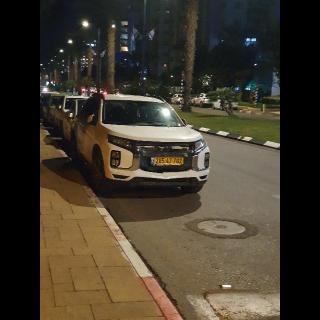LicensePlate: (155, 158, 183, 164)
